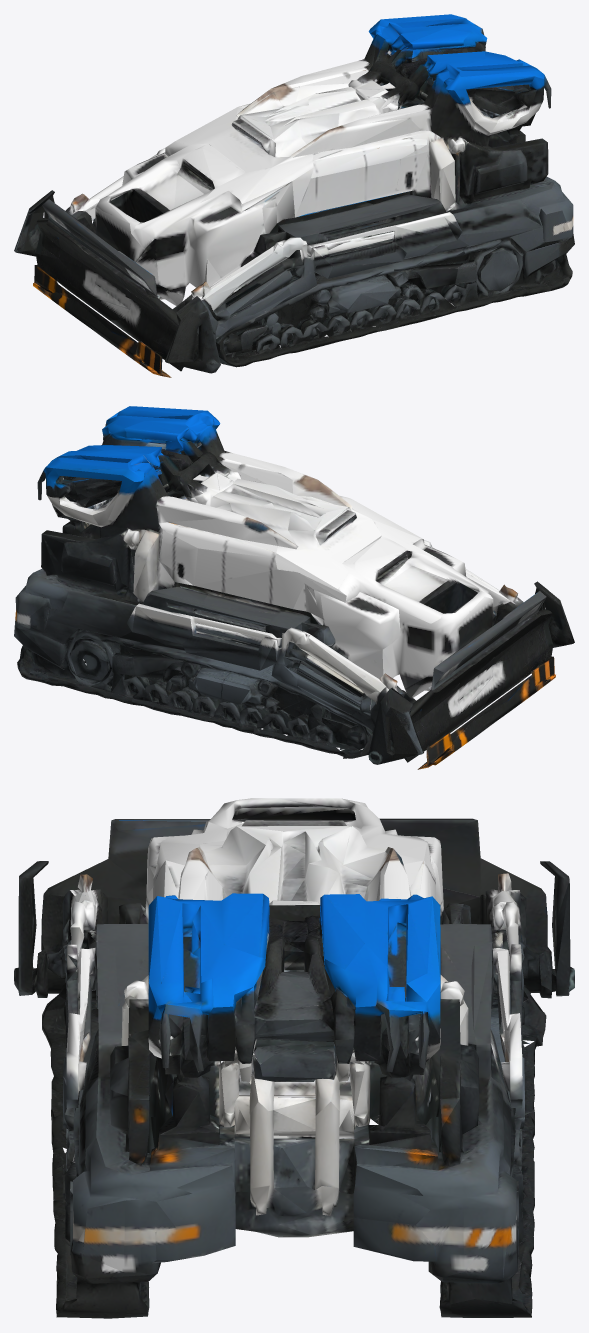
Rendered from construction-dozer.glb.
The picture shows the model from 3 angles, top to bottom: view 1: azimuth 30°, elevation 25°; view 2: azimuth 150°, elevation 25°; view 3: azimuth 270°, elevation 25°; orthographic projection. The views are drawn at different scales.
Visible parts, largest first — view 1: Hull; view 2: Hull; view 3: Hull.
Part boxes in pixels (x1=…): Hull: x1=14, y1=14, x2=574, y2=377; Hull: x1=14, y1=406, x2=574, y2=769; Hull: x1=14, y1=798, x2=574, y2=1318.
Bounding box in the file's own units: 2 × 0.9421 × 1.32.
1 material, 1 textured.
